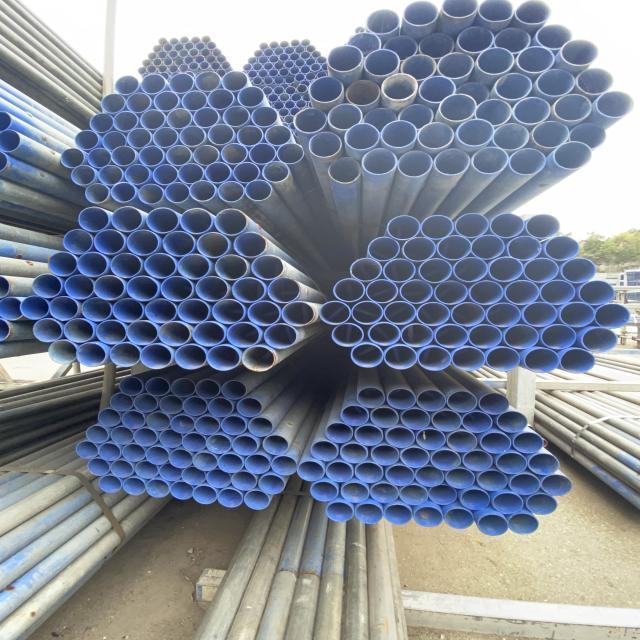pipe: (551, 92, 594, 128), (344, 74, 387, 110), (594, 89, 637, 125), (552, 142, 596, 177), (559, 35, 602, 69), (578, 64, 619, 99), (510, 145, 551, 180), (513, 94, 555, 128), (304, 76, 347, 109), (436, 91, 479, 124), (472, 98, 515, 131), (474, 46, 518, 78), (325, 155, 365, 190), (433, 146, 473, 181), (471, 145, 511, 180), (325, 42, 365, 77), (416, 120, 457, 154), (531, 119, 573, 152), (418, 28, 457, 63), (381, 117, 420, 152), (560, 253, 601, 286), (516, 44, 558, 76), (365, 4, 404, 38), (398, 147, 437, 181), (363, 45, 402, 79), (456, 24, 496, 57), (382, 73, 422, 106), (491, 121, 531, 154), (569, 121, 609, 154), (486, 254, 527, 286), (593, 301, 634, 333), (263, 321, 302, 354), (240, 344, 279, 377), (494, 71, 534, 103), (437, 52, 477, 84), (537, 69, 577, 101), (418, 73, 458, 105), (522, 346, 563, 377), (557, 347, 599, 377), (293, 107, 331, 140), (403, 1, 441, 34), (213, 207, 252, 239), (504, 321, 543, 353), (306, 131, 345, 163), (456, 119, 496, 150), (580, 324, 621, 354), (525, 212, 566, 242), (539, 322, 580, 352), (280, 299, 318, 331), (249, 251, 287, 283), (362, 149, 400, 181), (193, 318, 231, 350), (558, 300, 597, 331), (245, 298, 284, 329), (537, 21, 576, 52), (195, 274, 234, 305), (487, 211, 526, 242), (125, 227, 164, 258), (516, 1, 556, 31), (493, 27, 533, 57), (482, 346, 522, 376), (540, 276, 580, 306), (470, 233, 510, 263), (177, 251, 214, 283), (346, 123, 383, 155), (213, 252, 251, 283), (452, 254, 490, 285), (361, 106, 400, 136), (484, 300, 523, 330), (436, 234, 475, 264), (162, 229, 201, 259), (523, 254, 562, 284), (476, 0, 515, 30), (544, 235, 584, 264), (206, 344, 243, 375), (417, 254, 454, 285), (226, 319, 263, 350), (435, 321, 472, 352), (450, 299, 488, 329), (450, 345, 488, 375), (581, 280, 619, 310), (211, 297, 249, 327), (234, 230, 272, 260), (327, 104, 365, 134), (453, 211, 491, 241), (267, 277, 305, 307), (402, 53, 440, 83), (467, 323, 505, 353), (156, 320, 194, 350), (398, 103, 436, 133), (125, 276, 163, 306), (382, 34, 420, 64), (61, 226, 96, 258), (146, 206, 182, 237), (111, 205, 147, 236), (505, 510, 541, 541), (416, 299, 453, 329), (507, 234, 544, 264), (178, 207, 215, 237), (92, 227, 129, 257), (31, 270, 68, 300), (416, 345, 454, 374), (366, 235, 404, 264), (232, 277, 270, 306), (385, 215, 423, 244), (349, 254, 387, 283), (349, 343, 387, 372), (364, 278, 402, 307), (111, 250, 146, 281), (144, 251, 180, 281), (75, 205, 111, 235), (174, 343, 210, 373), (163, 273, 199, 303), (383, 344, 420, 373), (524, 300, 561, 329), (403, 235, 440, 264), (196, 231, 233, 260), (331, 278, 368, 307), (329, 321, 366, 350), (440, 0, 481, 26), (493, 408, 531, 436), (418, 215, 456, 243), (398, 279, 436, 307), (383, 256, 421, 284), (74, 342, 108, 373), (475, 509, 510, 539), (109, 342, 144, 372), (140, 343, 175, 373), (179, 297, 215, 326), (113, 296, 149, 325), (64, 273, 100, 302), (506, 280, 543, 308), (469, 280, 506, 308), (351, 299, 388, 327), (384, 299, 421, 327), (432, 280, 469, 308), (366, 320, 403, 348), (339, 478, 376, 506), (494, 449, 531, 477), (348, 30, 386, 57), (146, 297, 182, 325), (49, 295, 85, 323), (541, 472, 577, 500), (400, 322, 436, 350), (92, 276, 128, 304), (526, 490, 563, 517), (478, 428, 515, 455), (489, 488, 526, 515), (75, 250, 109, 279), (31, 316, 65, 345), (47, 250, 81, 279), (97, 318, 131, 347), (128, 318, 162, 347), (307, 478, 342, 506), (79, 296, 114, 324), (456, 78, 491, 106), (507, 470, 542, 498), (513, 429, 549, 456), (241, 176, 277, 203), (444, 389, 480, 416), (458, 410, 495, 436), (478, 391, 511, 420), (18, 294, 51, 323), (62, 317, 96, 345), (317, 300, 351, 328), (353, 500, 387, 528), (273, 142, 308, 169), (354, 384, 389, 411), (441, 506, 476, 533), (411, 503, 445, 530), (528, 452, 562, 479), (475, 468, 510, 494), (446, 428, 482, 453), (47, 342, 79, 370), (400, 406, 433, 433), (458, 486, 491, 513), (384, 502, 417, 529), (308, 439, 341, 466), (430, 446, 463, 473), (295, 456, 329, 482), (261, 431, 295, 457), (431, 407, 465, 433), (323, 458, 358, 483), (416, 426, 451, 451), (384, 424, 419, 449), (354, 424, 387, 450), (386, 463, 419, 489), (369, 406, 402, 432), (235, 394, 269, 419), (234, 86, 266, 112), (249, 106, 281, 132), (207, 87, 239, 113), (427, 483, 459, 509), (191, 144, 223, 170), (461, 448, 493, 474), (220, 106, 253, 131), (385, 388, 418, 413), (397, 484, 430, 509), (369, 480, 402, 505), (414, 390, 447, 415), (219, 142, 249, 169), (263, 160, 294, 186), (220, 412, 251, 438), (208, 122, 239, 148), (355, 460, 387, 485), (257, 471, 289, 496), (400, 445, 432, 470), (324, 422, 356, 447), (215, 181, 247, 206), (445, 466, 477, 491), (338, 403, 370, 428), (413, 465, 445, 490), (177, 125, 209, 150), (340, 442, 373, 466), (369, 443, 402, 467), (138, 110, 172, 133), (247, 414, 278, 439), (236, 123, 267, 148), (269, 455, 300, 480), (221, 69, 252, 94), (135, 183, 166, 208), (124, 126, 155, 151), (187, 181, 219, 205), (325, 500, 358, 523), (248, 143, 278, 168), (170, 377, 200, 402), (191, 482, 221, 507), (233, 161, 263, 186), (163, 145, 193, 170), (58, 147, 88, 172), (166, 108, 197, 132), (241, 490, 272, 514), (124, 91, 155, 115), (220, 378, 251, 402), (110, 146, 141, 170), (100, 92, 131, 116), (162, 183, 193, 207), (192, 107, 223, 131), (113, 74, 144, 98), (167, 75, 199, 98), (232, 433, 261, 458), (151, 163, 180, 188), (205, 161, 234, 186), (142, 74, 172, 98), (182, 395, 212, 419), (123, 162, 153, 186), (70, 164, 100, 188), (157, 394, 187, 418), (181, 89, 211, 113), (95, 163, 125, 187), (151, 90, 182, 113), (193, 73, 224, 96), (244, 454, 275, 477), (85, 148, 116, 171), (100, 130, 131, 153), (169, 414, 201, 436), (263, 125, 295, 147), (71, 128, 99, 153), (138, 146, 167, 170), (151, 127, 181, 150), (217, 488, 247, 511), (144, 375, 174, 398), (194, 414, 224, 437), (194, 377, 224, 400), (112, 112, 142, 135), (208, 397, 238, 420), (145, 409, 175, 432), (206, 468, 236, 491), (83, 184, 113, 207), (131, 393, 161, 416), (206, 434, 236, 457), (178, 163, 208, 186), (110, 182, 141, 204), (119, 475, 150, 497), (89, 112, 117, 136), (166, 447, 195, 470), (120, 410, 149, 433), (191, 449, 220, 472), (182, 431, 211, 454), (131, 428, 161, 450), (157, 429, 185, 452), (217, 453, 245, 476), (230, 471, 259, 493), (120, 443, 149, 465), (118, 375, 147, 397), (168, 479, 196, 501), (109, 393, 137, 415), (109, 460, 138, 481), (181, 467, 210, 488), (96, 441, 123, 463), (97, 407, 124, 429), (145, 477, 173, 498), (132, 461, 160, 482), (84, 426, 113, 446), (110, 424, 136, 446), (97, 473, 123, 495), (146, 445, 173, 466), (158, 464, 185, 484), (76, 440, 102, 460), (87, 458, 113, 478)
